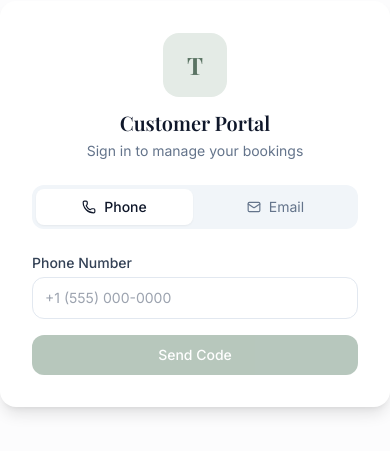
Test case: PortalLoginPage › magic link flow: sends email and shows confirmation
Click the button with test id "tab-email" at [276, 207], box 197,189 -> 354,225
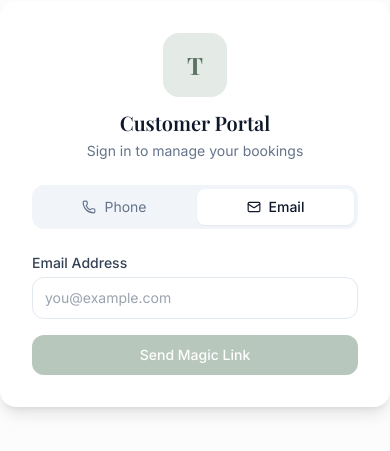
Type "jane@test.com" into the field with test id "email-input" at [195, 298], box 32,277 -> 358,319
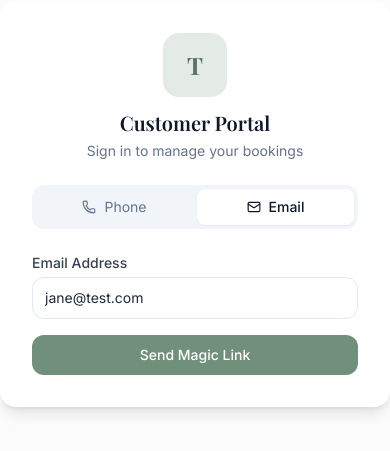
Click the button with test id "send-magic-link-btn" at [195, 355], box 32,335 -> 358,375
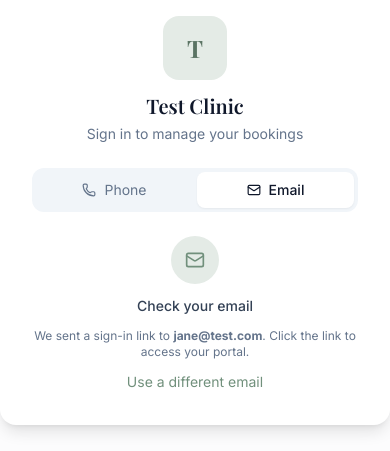
Expected: the element with test id "email-sent-confirmation" is shown, 32,236 -> 358,393
Expected: the text "Check your email" is shown, 137,297 -> 253,314
